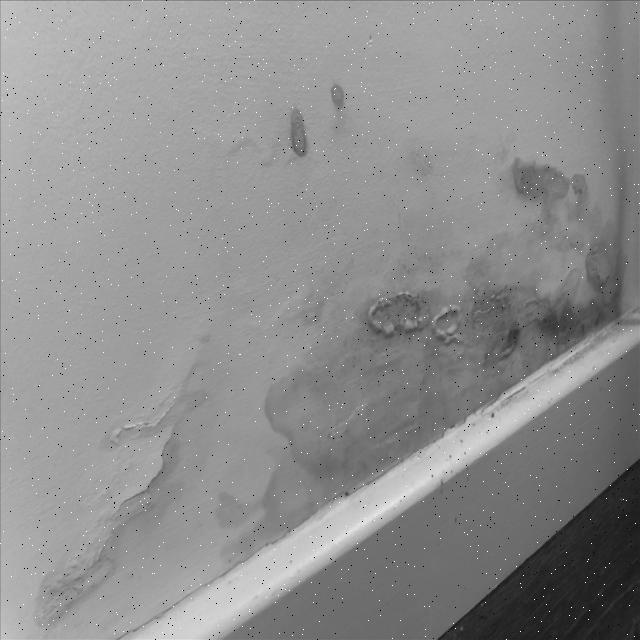stain marks: (20, 140, 632, 632), (270, 67, 350, 168)
